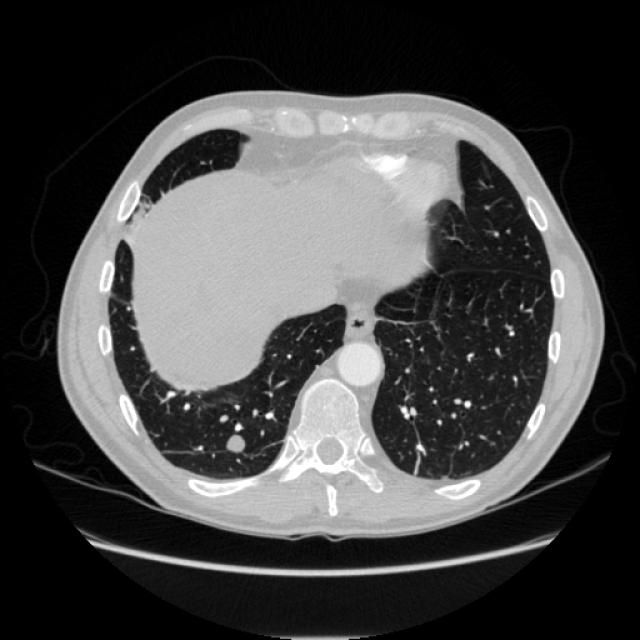nodule: (215, 422, 255, 462)
